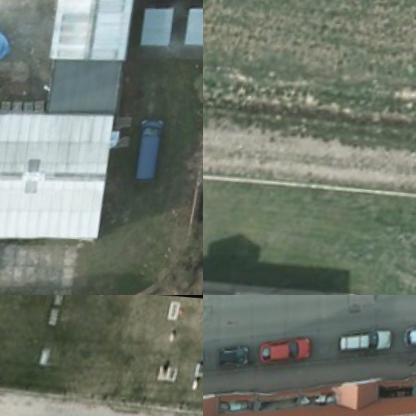car: (256, 328, 316, 366), (337, 326, 398, 356), (216, 339, 258, 372), (403, 316, 415, 352)
van: (129, 112, 172, 192)
